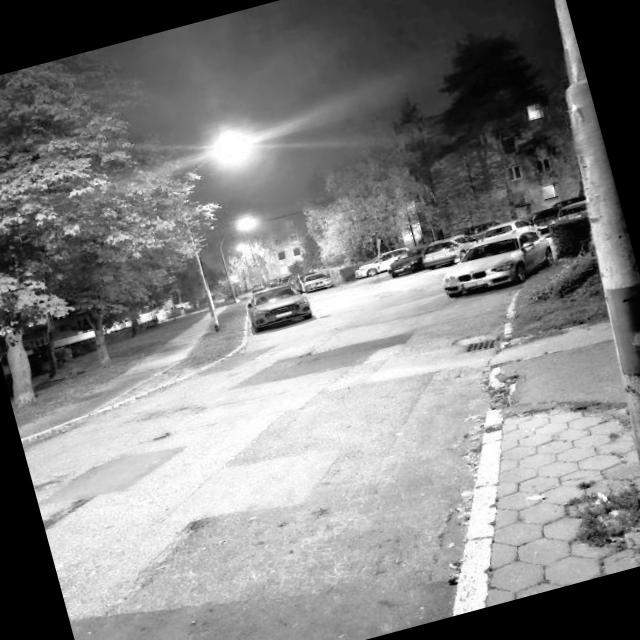Light: (162, 135, 294, 334), (205, 206, 278, 308)
Tree: (0, 118, 70, 411)
